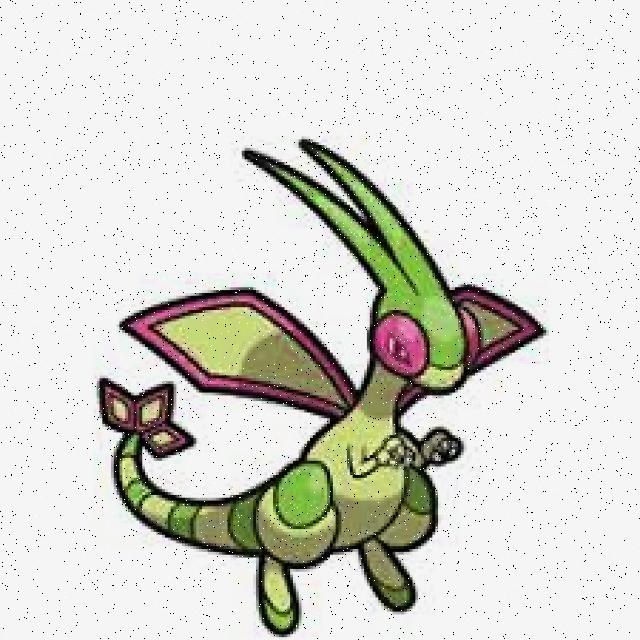flygon: (81, 135, 543, 639)
